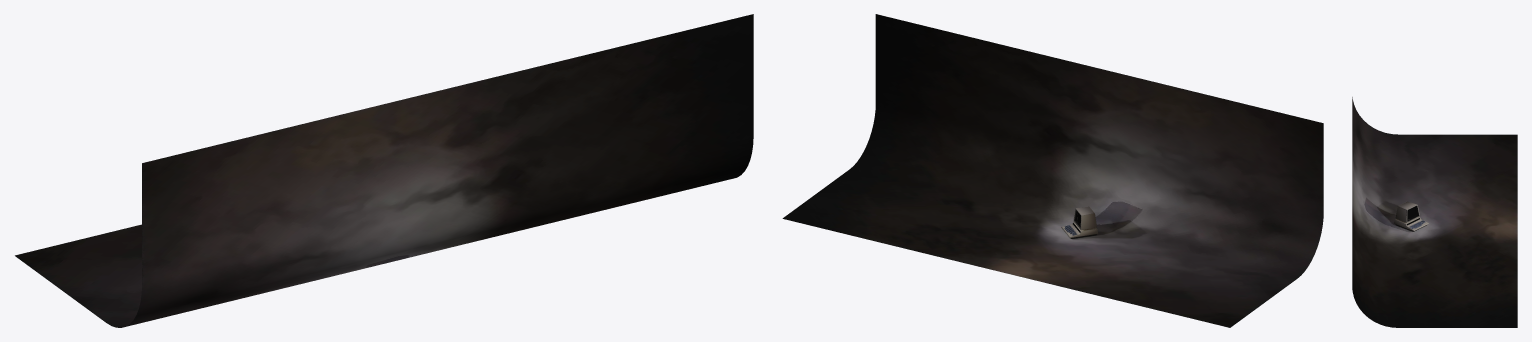
Rendered from computer.glb.
The picture shows the model from 3 angles, left to right: view 1: azimuth 30°, elevation 25°; view 2: azimuth 150°, elevation 25°; view 3: azimuth 270°, elevation 25°; orthographic projection. The views are drawn at different scales.
Parts seen in each view (by area): view 1: background; view 2: background, computer; view 3: background, computer.
Boxes of the visible parts, bbox=[...] form: background: bbox=[15, 14, 753, 327]; background: bbox=[782, 14, 1323, 327]; computer: bbox=[1061, 206, 1098, 238]; background: bbox=[1352, 97, 1517, 327]; computer: bbox=[1394, 201, 1428, 231].
Size of the model in its own units: 347 by 101 by 125.
Materials: 4 (4 with a texture image).
